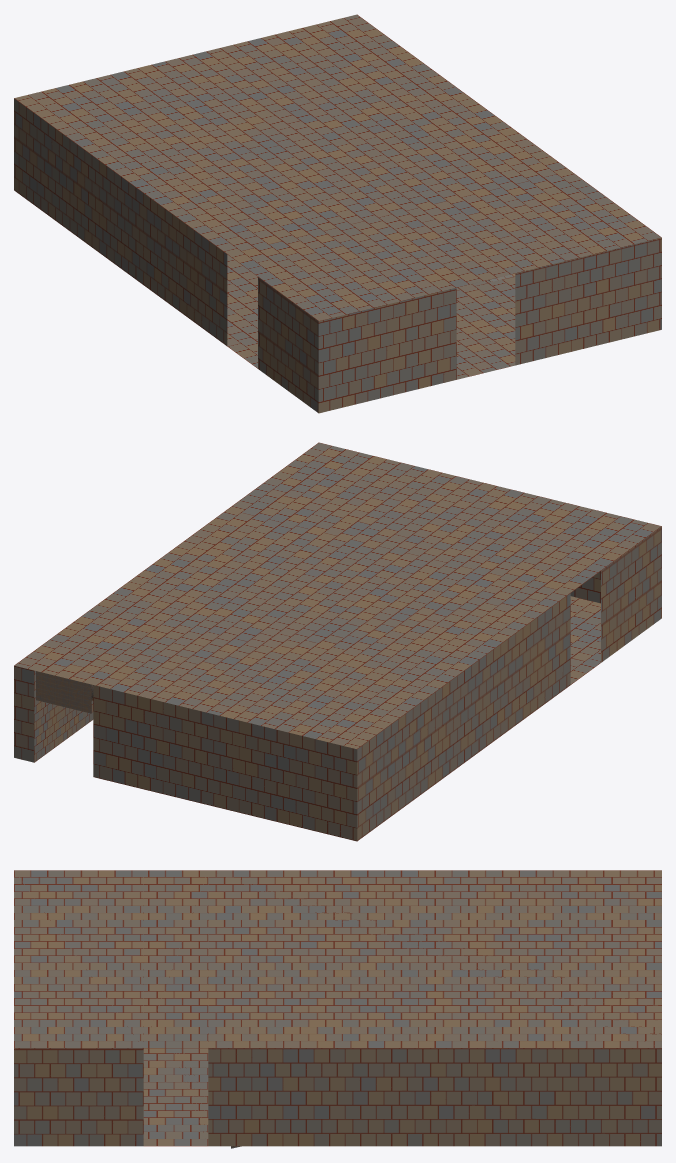
Rendered from IndianaJonesRoom.fbx.
3 views of the same model, one above another, from view 1: azimuth 30°, elevation 25°; view 2: azimuth 150°, elevation 25°; view 3: azimuth 270°, elevation 25° (orthographic). The views are drawn at different scales.
Visible parts, largest first — view 1: IndianaJonesRoom; view 2: IndianaJonesRoom; view 3: IndianaJonesRoom.
Part boxes in pixels (x1,y1,x2,y2): IndianaJonesRoom: (14, 14, 661, 413); IndianaJonesRoom: (14, 442, 661, 841); IndianaJonesRoom: (14, 870, 661, 1148).
Bounding box in the file's own units: 3900 × 1267 × 6000.
1 material, 1 textured.
